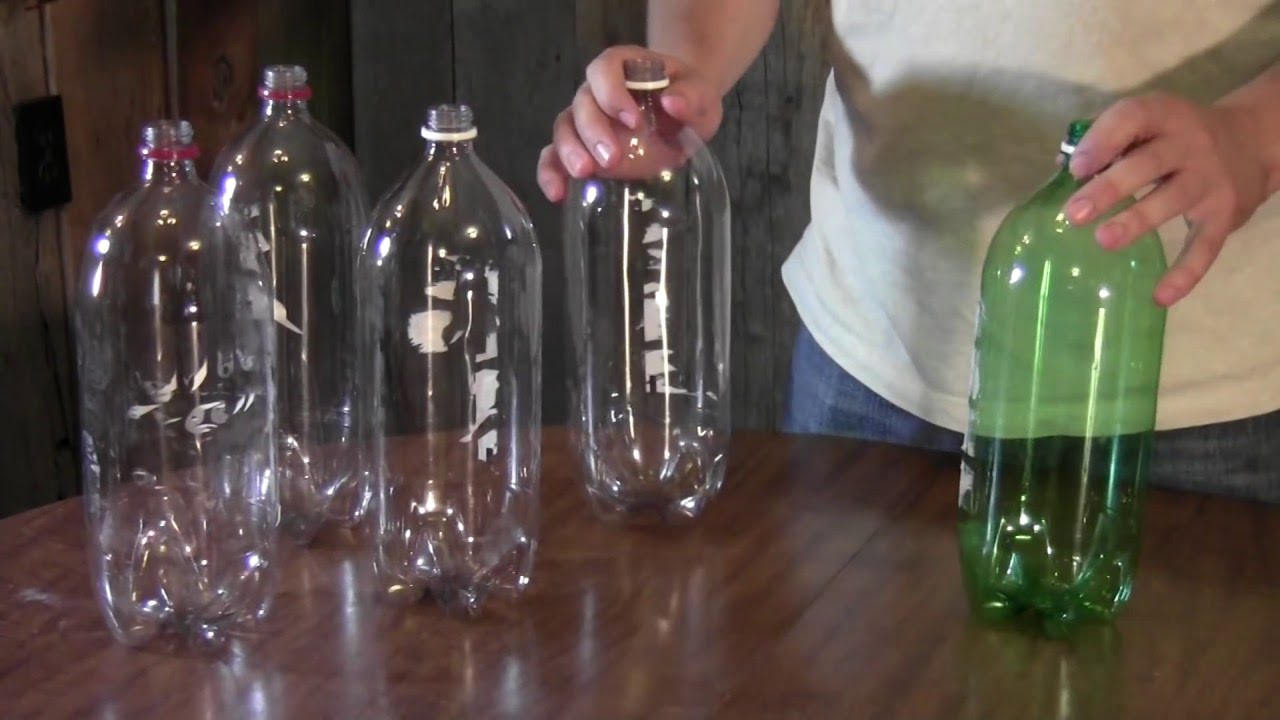plastic_bottle: (884, 35, 1220, 703), (513, 16, 854, 671), (327, 31, 620, 675), (38, 67, 327, 718), (200, 14, 458, 720)
